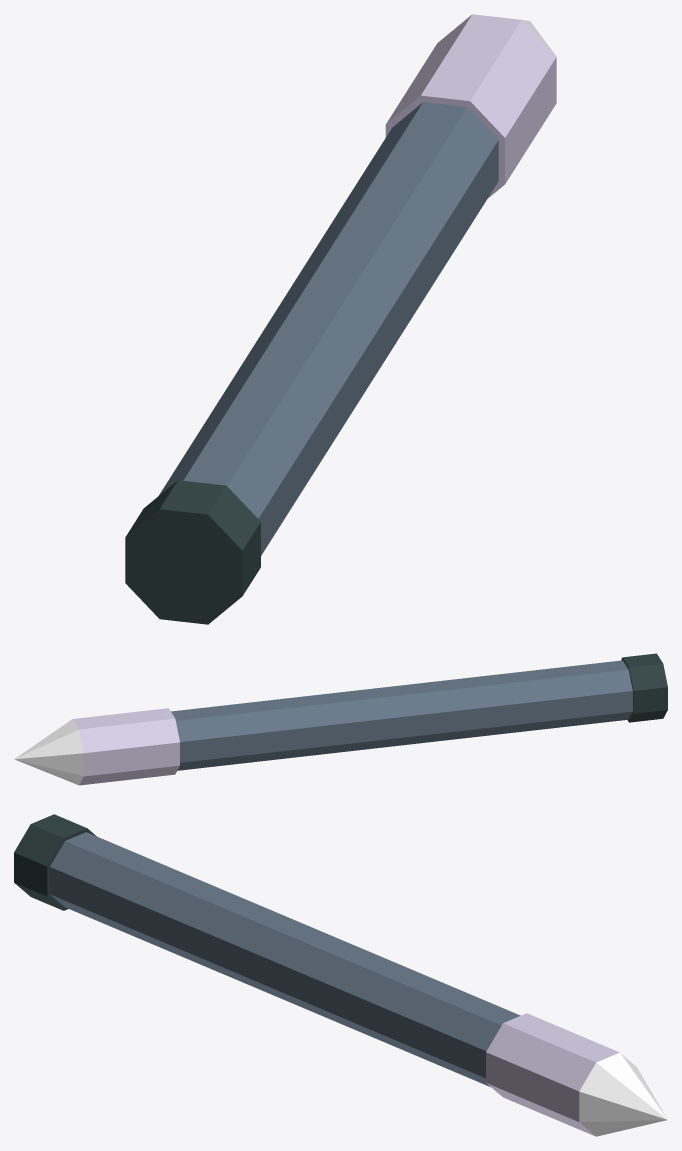
The model's file is ce_ammo2_s8_he_a.obj.
3 views of the same model, one above another, from view 1: azimuth 30°, elevation 25°; view 2: azimuth 150°, elevation 25°; view 3: azimuth 270°, elevation 25° (orthographic). The views are drawn at different scales.
Visible parts, largest first — view 1: ce_ammo2_s8_he_a_1, ce_ammo2_s8_he_a_0, ce_ammo2_s8_he_a_2; view 2: ce_ammo2_s8_he_a_1, ce_ammo2_s8_he_a_2, ce_ammo2_s8_he_a_3, ce_ammo2_s8_he_a_0; view 3: ce_ammo2_s8_he_a_1, ce_ammo2_s8_he_a_2, ce_ammo2_s8_he_a_3, ce_ammo2_s8_he_a_0.
Boxes of the visible parts, left/top/right/bottom form: ce_ammo2_s8_he_a_1: left=159, top=102, right=498, bottom=555; ce_ammo2_s8_he_a_0: left=125, top=480, right=260, bottom=624; ce_ammo2_s8_he_a_2: left=385, top=14, right=556, bottom=198; ce_ammo2_s8_he_a_1: left=171, top=660, right=632, bottom=770; ce_ammo2_s8_he_a_2: left=72, top=708, right=179, bottom=785; ce_ammo2_s8_he_a_3: left=14, top=719, right=83, bottom=785; ce_ammo2_s8_he_a_0: left=621, top=653, right=667, bottom=722; ce_ammo2_s8_he_a_1: left=50, top=832, right=520, bottom=1086; ce_ammo2_s8_he_a_2: left=486, top=1013, right=619, bottom=1136; ce_ammo2_s8_he_a_3: left=579, top=1052, right=667, bottom=1136; ce_ammo2_s8_he_a_0: left=14, top=814, right=96, bottom=910.
Size of the model in its own units: 0.6948 by 0.0869 by 0.6948.
